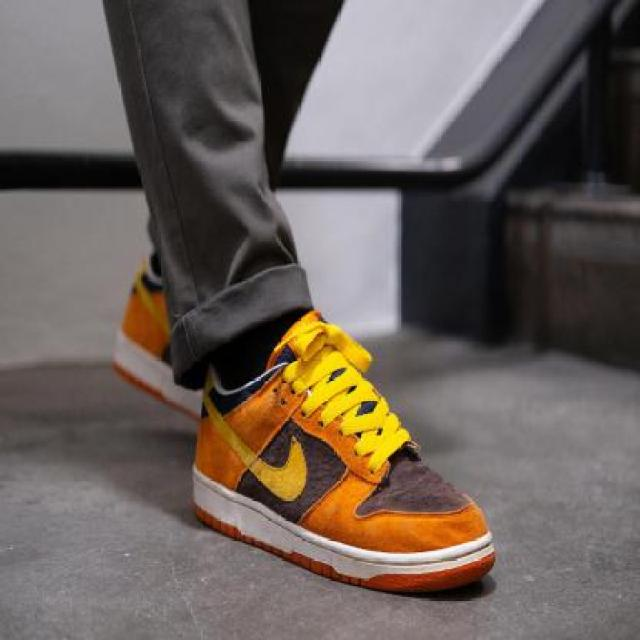shoe: (190, 313, 498, 595)
